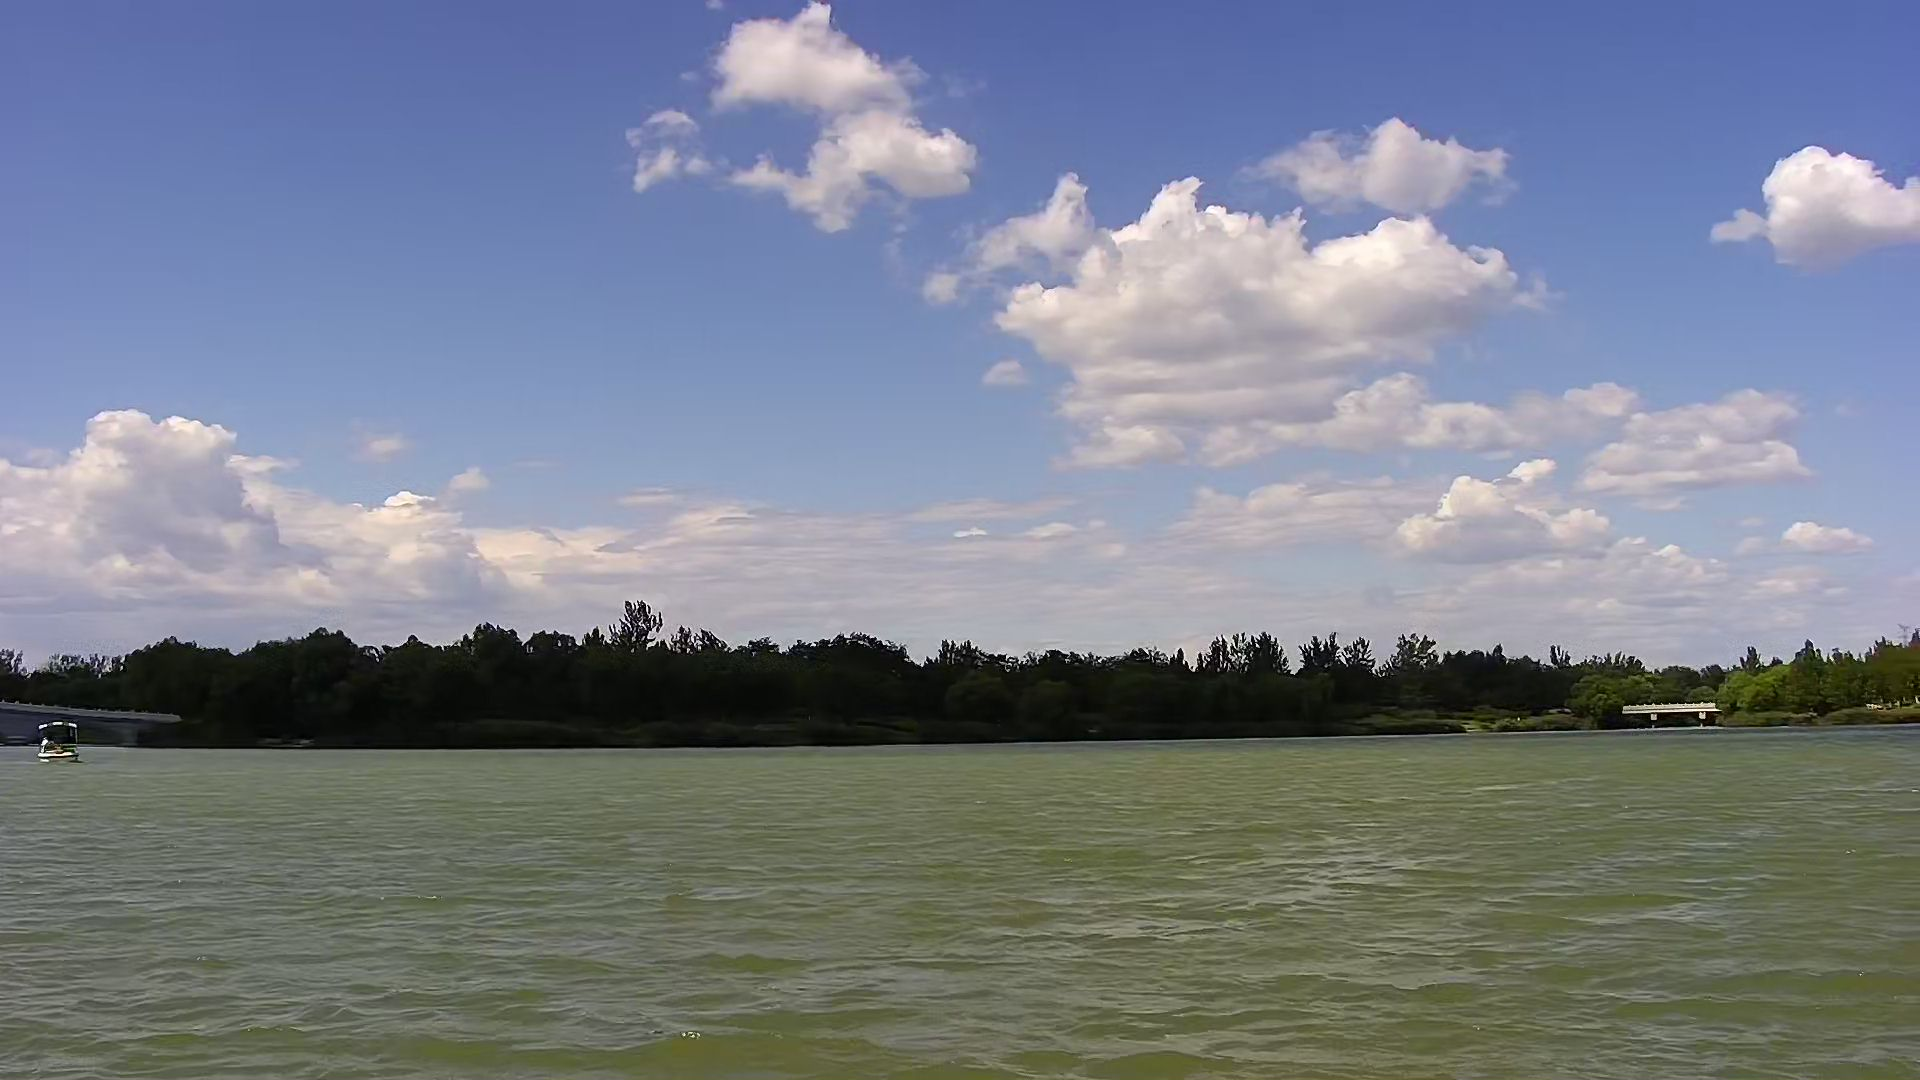boat: (33, 720, 84, 767)
bridge: (1, 696, 181, 742), (1621, 702, 1721, 735)
